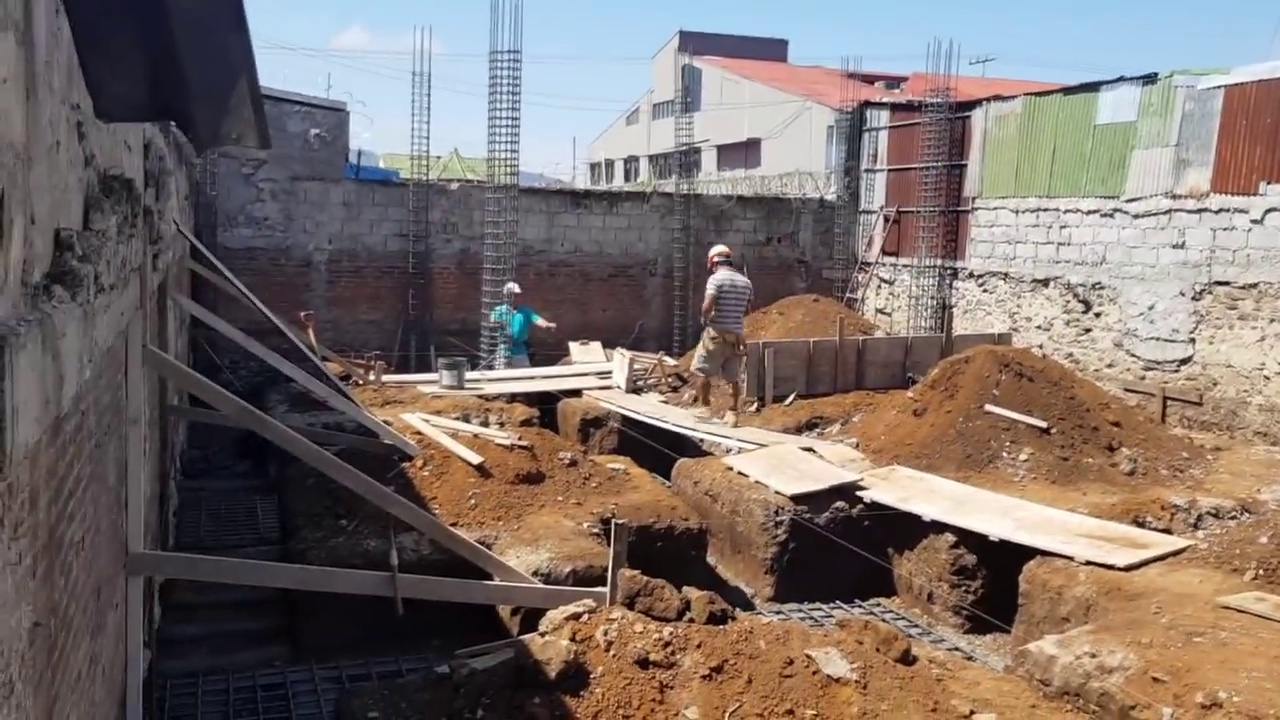helmet: (707, 244, 737, 268), (501, 281, 524, 296)
helmet-on: (704, 244, 739, 279), (500, 283, 525, 310)
person: (683, 243, 754, 423), (483, 280, 545, 376)
